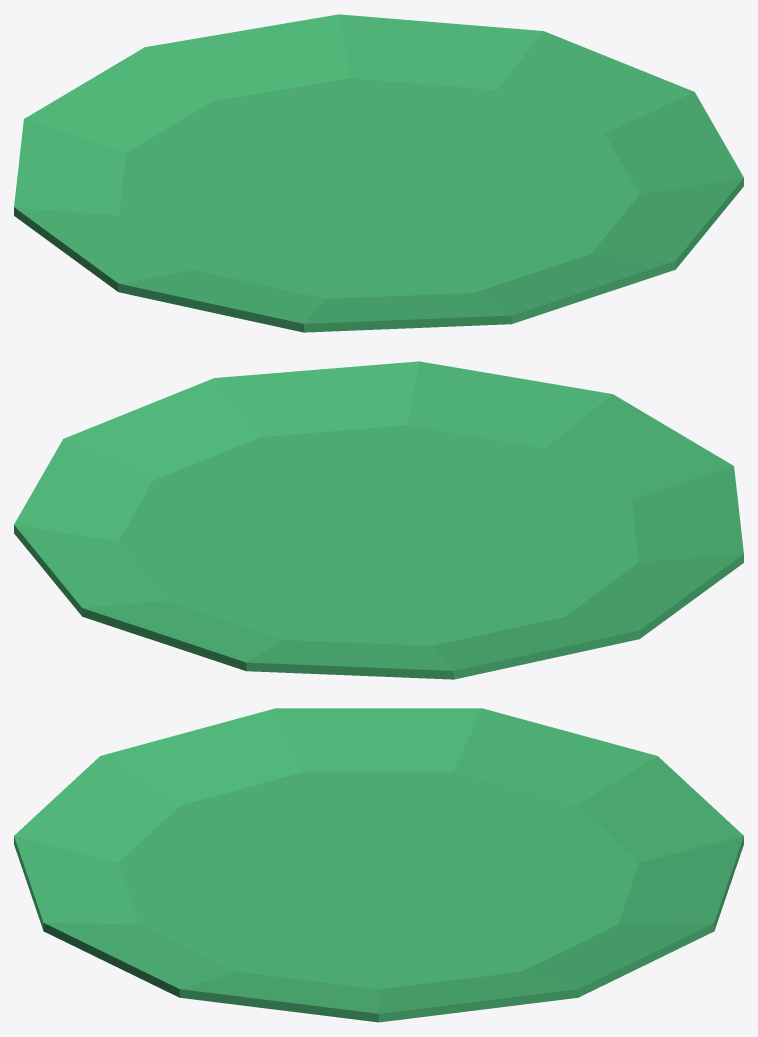
File: plate_01.fbx
3 renders of one model, top to bottom at view 1: azimuth 30°, elevation 25°; view 2: azimuth 150°, elevation 25°; view 3: azimuth 270°, elevation 25°, orthographic.
Parts seen in each view (by area): view 1: pCylinder89; view 2: pCylinder89; view 3: pCylinder89.
Boxes of the visible parts, x1,y1,x2,y2 form: pCylinder89: (14, 14, 743, 332); pCylinder89: (14, 361, 743, 679); pCylinder89: (14, 708, 743, 1022).
Size of the model in its own units: 0.4462 by 0.0238 by 0.4508.
